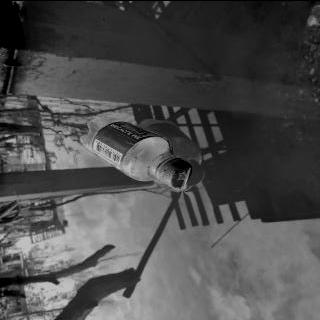bottle: (76, 115, 194, 192)
